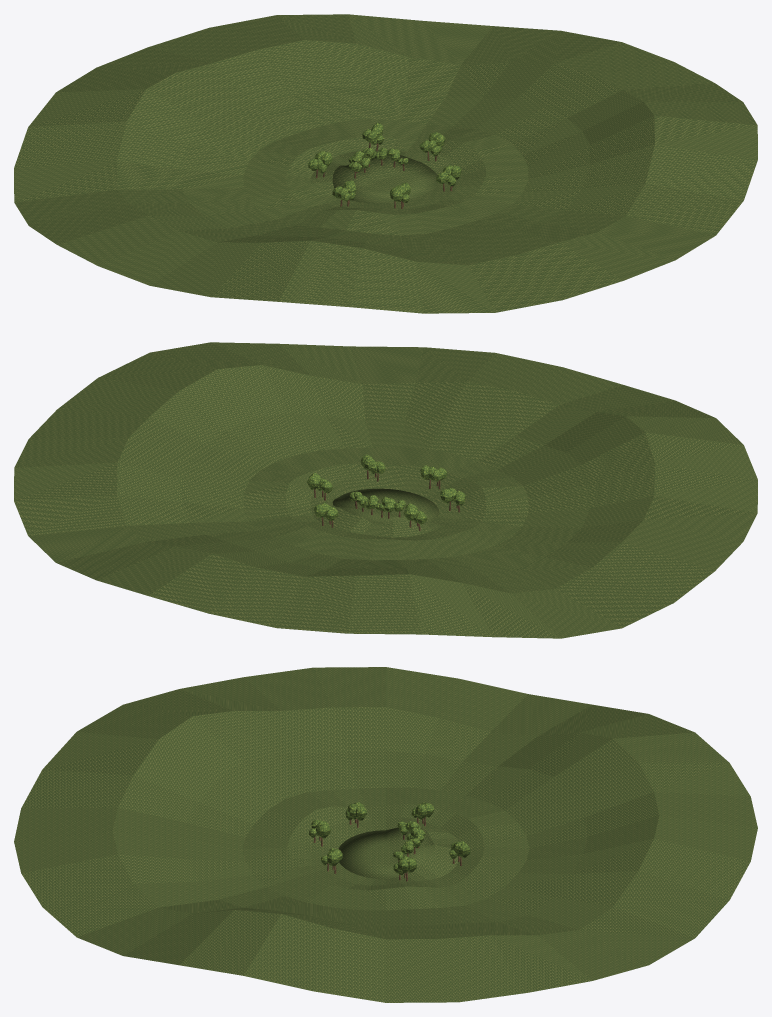
Rendered from GroveBank.fbx.
3 views of the same model, one above another, from view 1: azimuth 30°, elevation 25°; view 2: azimuth 150°, elevation 25°; view 3: azimuth 270°, elevation 25° (orthographic). The views are drawn at different scales.
Parts seen in each view (by area): view 1: GroveBank paint; view 2: GroveBank paint; view 3: GroveBank paint.
Part boxes in pixels (left/top/right/bottom): GroveBank paint: left=14, top=14, right=757, bottom=313; GroveBank paint: left=14, top=342, right=757, bottom=638; GroveBank paint: left=14, top=667, right=757, bottom=1002.
Bounding box in the file's own units: 17800 × 1400 × 16600.
